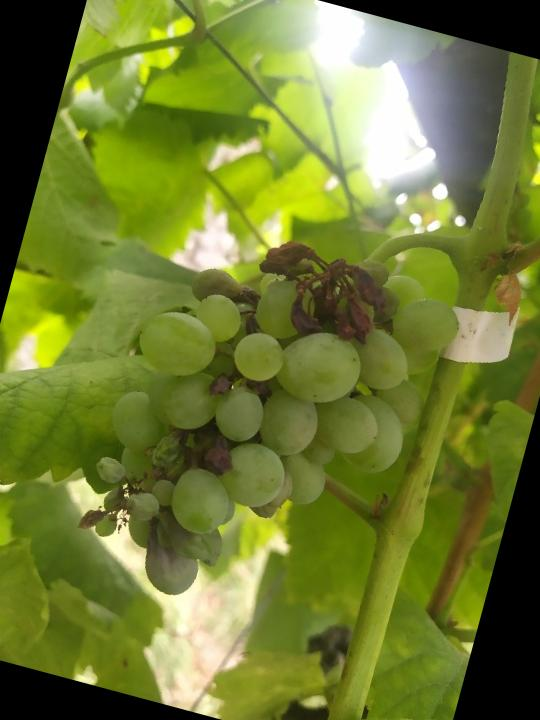grape: (62, 200, 475, 655)
